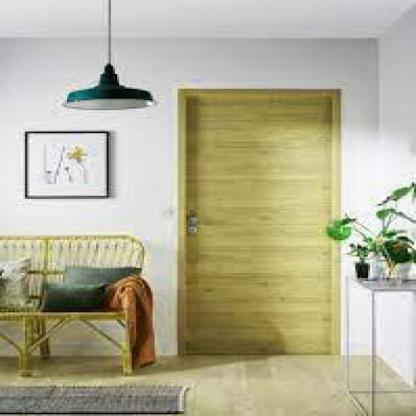door: (161, 69, 356, 363)
